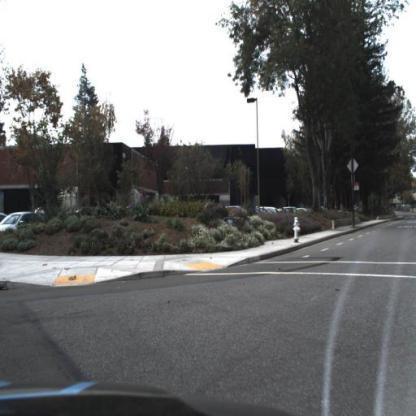car: (2, 205, 46, 245)
